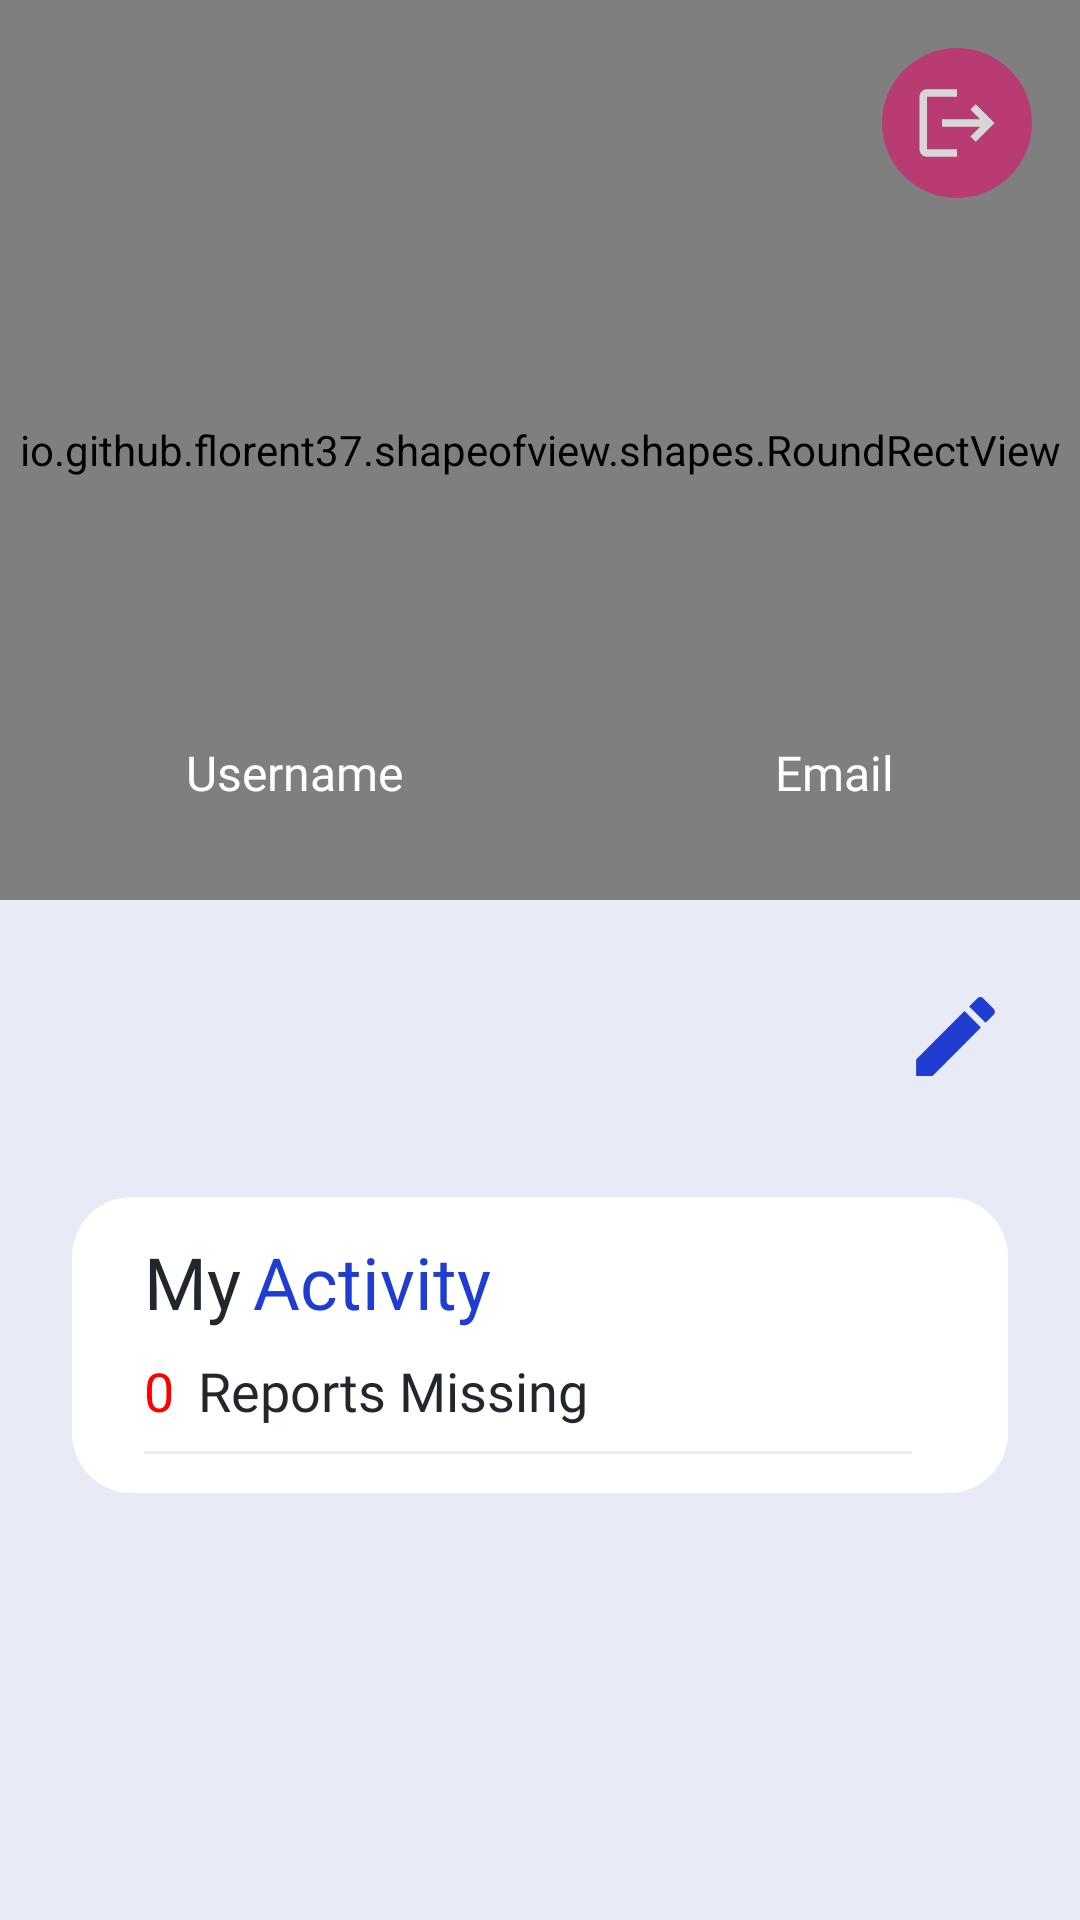

Screen size 1080px x 1920px. Icon name, then its center in pixels as point (x, y):
edit: point (955, 1036)
